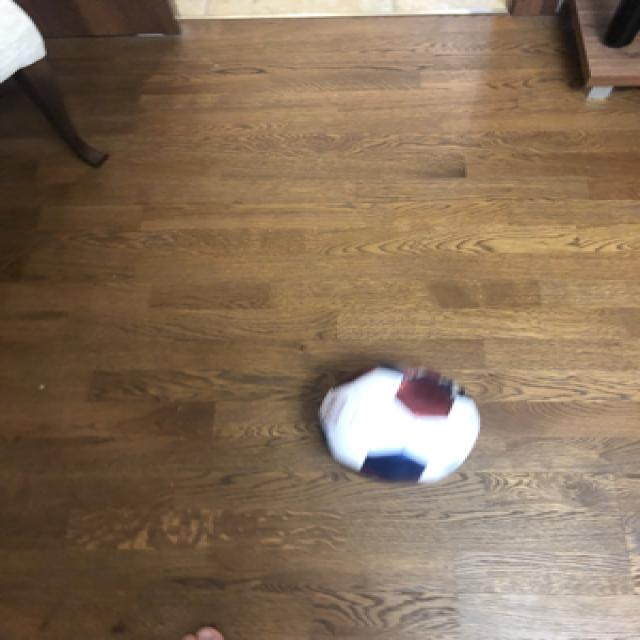soccer_ball: (311, 363, 478, 483)
